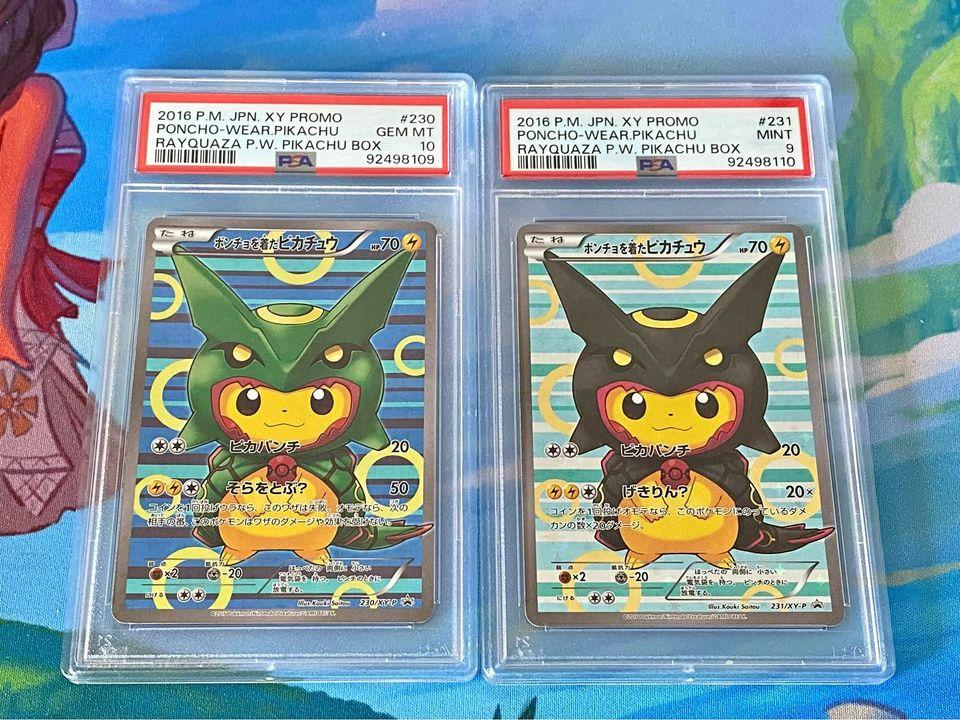card: (112, 216, 438, 624), (516, 223, 845, 627)
